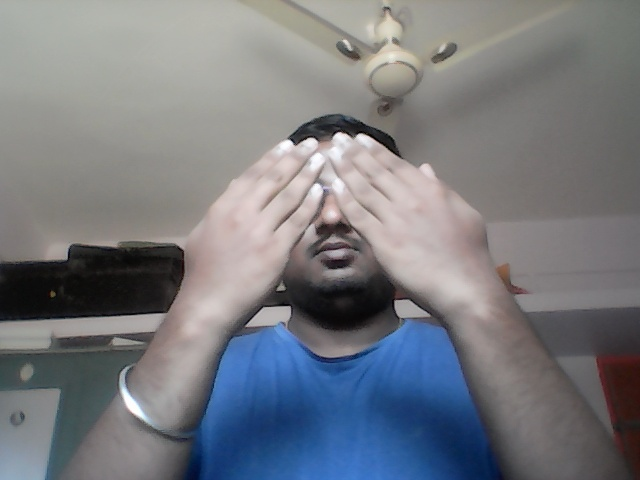Thank You: (177, 127, 496, 327)
